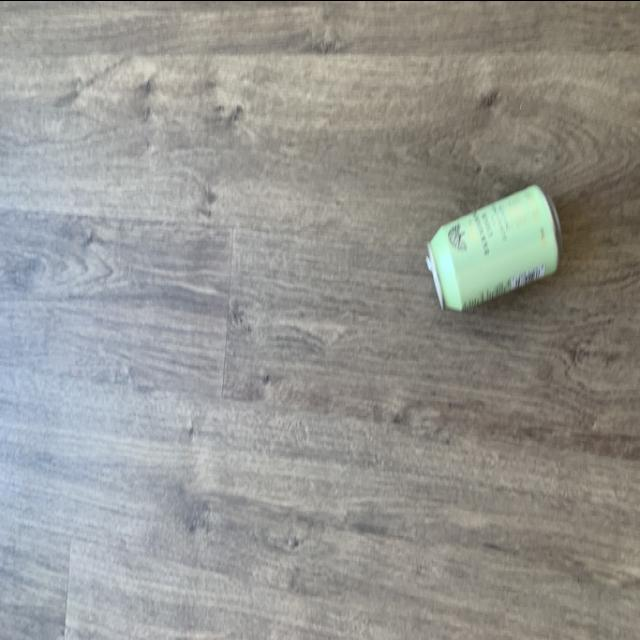Aluminum Can: (426, 179, 568, 320)
